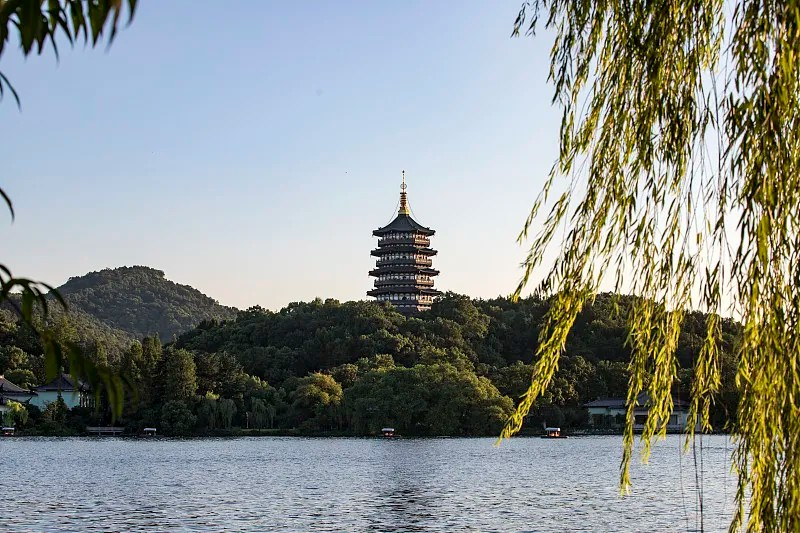Leifeng: (365, 167, 445, 317)
